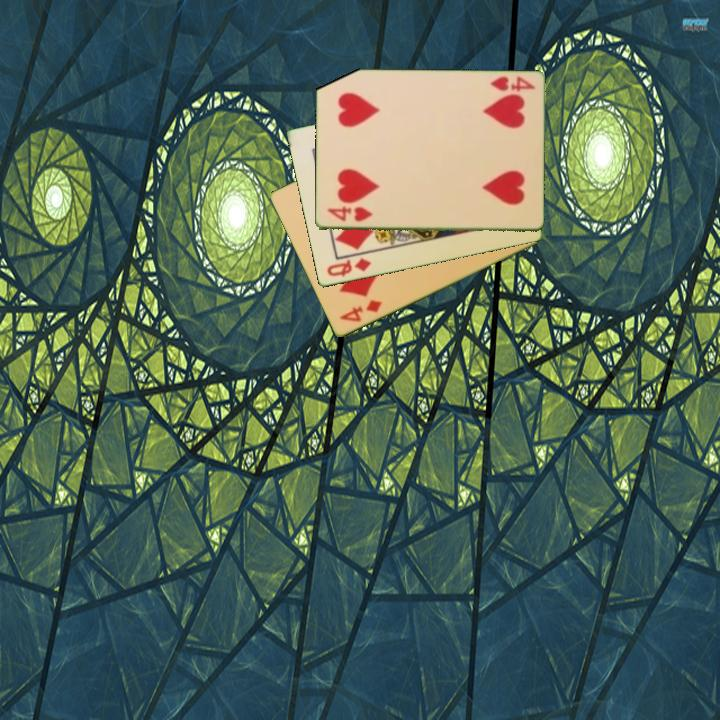4d: (336, 296, 385, 325)
4h: (486, 73, 537, 95), (324, 204, 375, 225)
Qd: (323, 255, 374, 280)
